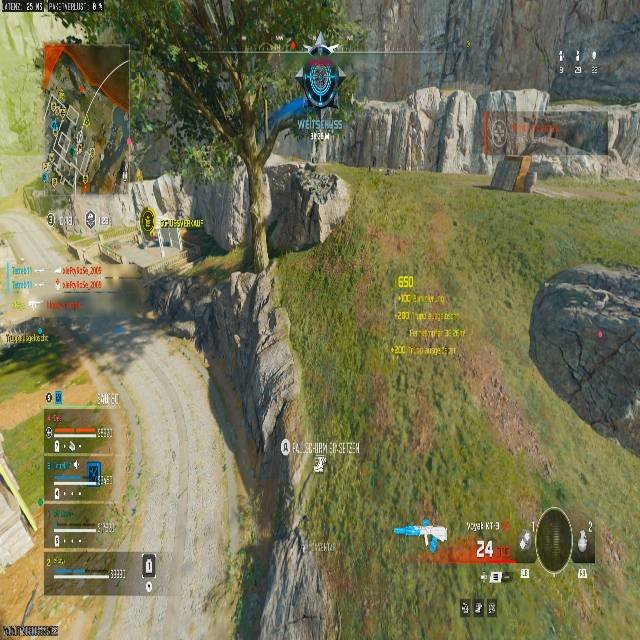player: (253, 52, 347, 254)
